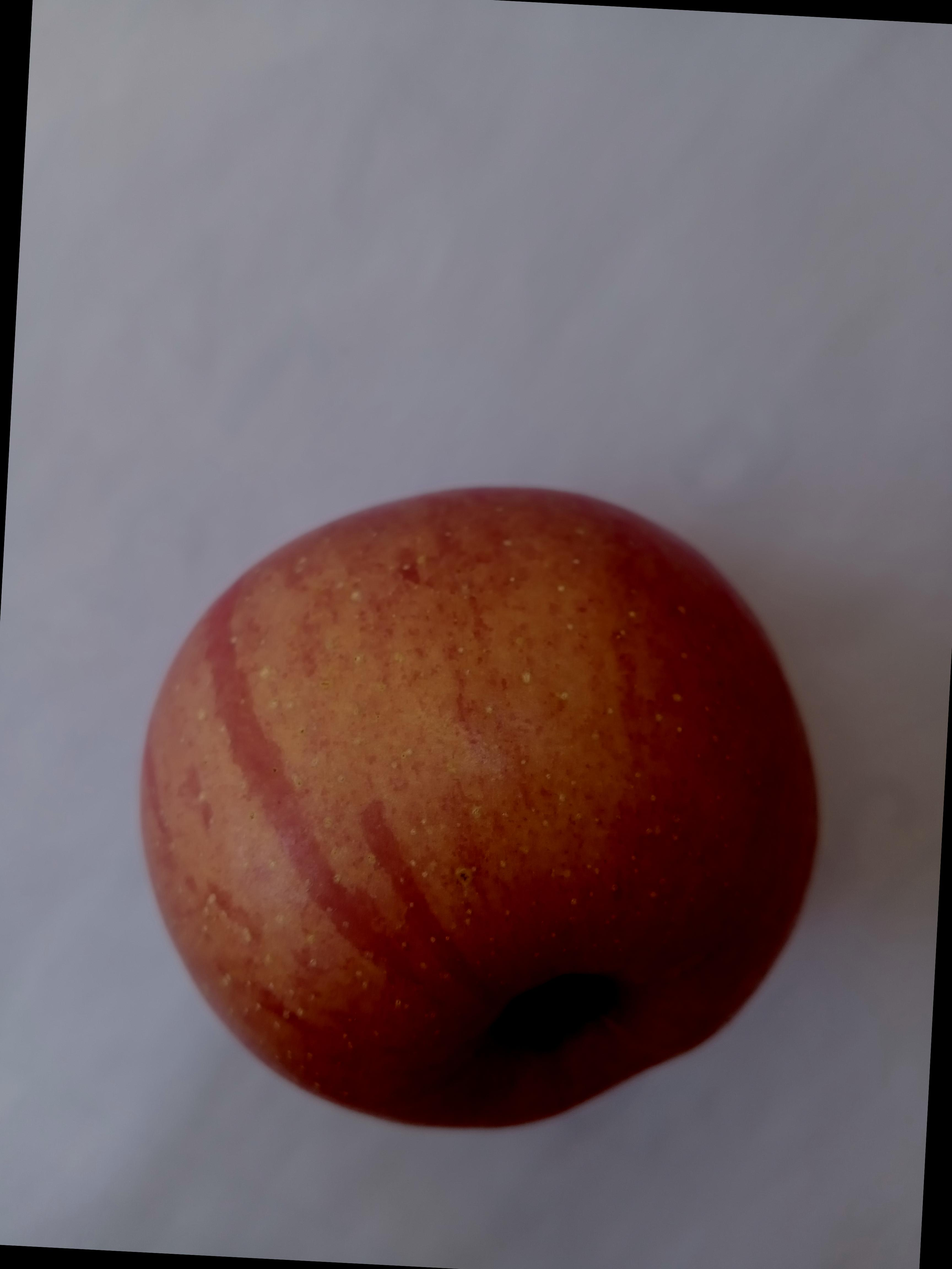Apple Ripe: (137, 417, 894, 1142)
